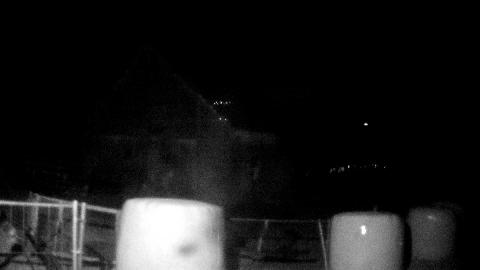sheep: (0, 221, 20, 264)
